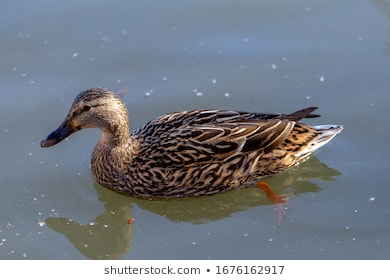duck: (24, 59, 369, 221)
